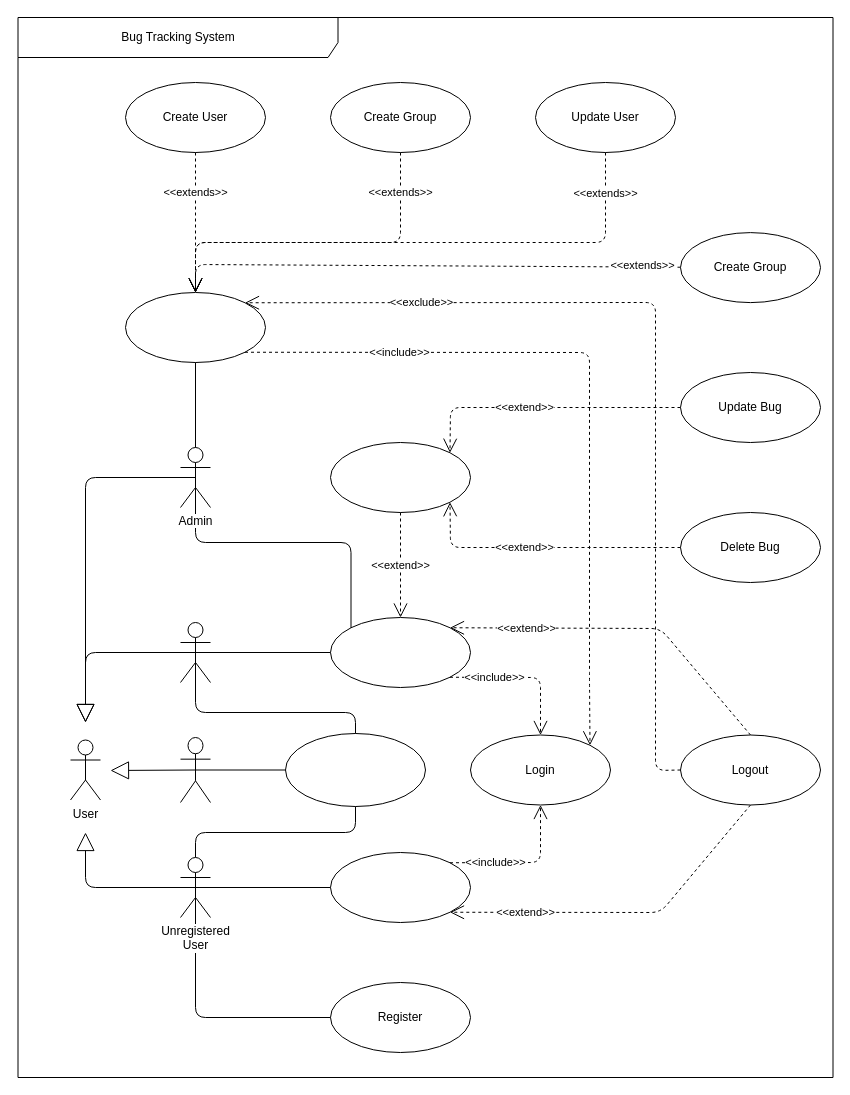
Image size: 850x1095. Some labels were removed from this diagram. The box of each missing label's shape, as (x1, y1, x2, y2) in pixels:
About: (284, 732, 426, 806)
Check Bug Detail: (330, 442, 470, 512)
Check List of All Bugs: (330, 616, 470, 688)
Check List Of Unresolved Bugs: (330, 852, 470, 922)
Check List Of Users: (124, 292, 266, 362)
Programmer: (180, 622, 210, 682)
Tester: (180, 736, 210, 802)
